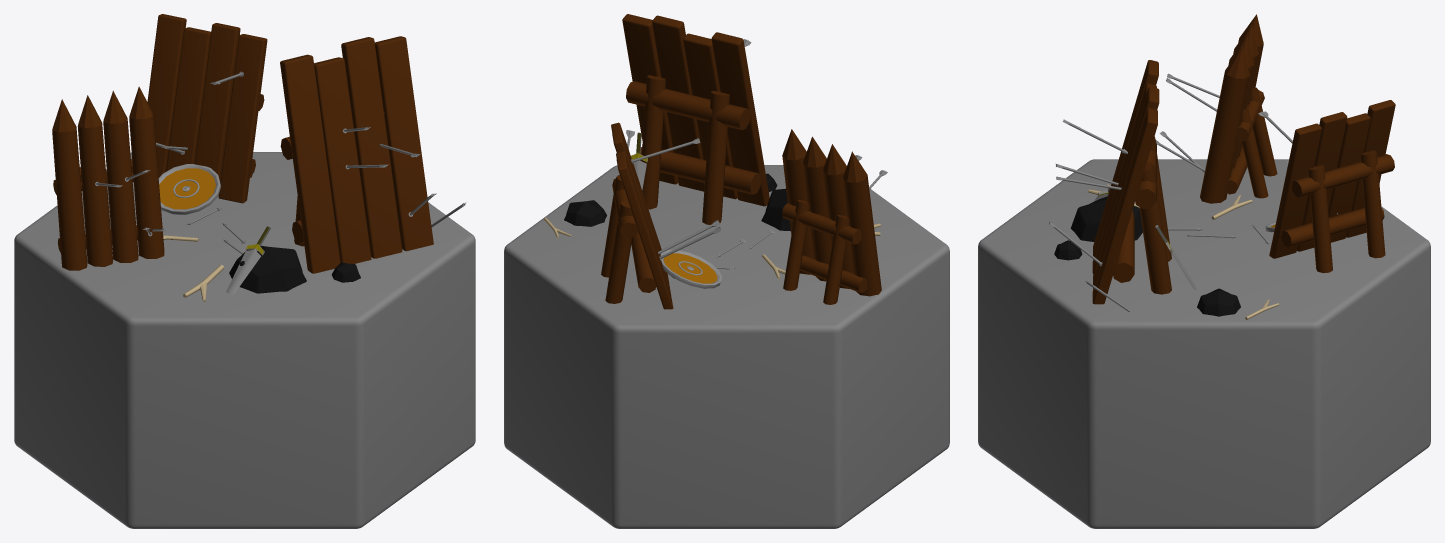
The model's file is Environment_Battlefield.fbx.
The picture shows the model from 3 angles, left to right: view 1: azimuth 30°, elevation 25°; view 2: azimuth 150°, elevation 25°; view 3: azimuth 270°, elevation 25°; orthographic projection. The views are drawn at different scales.
Parts seen in each view (by area): view 1: Object007; view 2: Object007; view 3: Object007.
Boxes of the visible parts, x1=… form: Object007: x1=14, y1=14, x2=475, y2=528; Object007: x1=504, y1=14, x2=949, y2=528; Object007: x1=978, y1=14, x2=1430, y2=528.
Bounding box in the file's own units: 173 × 192 × 198.
